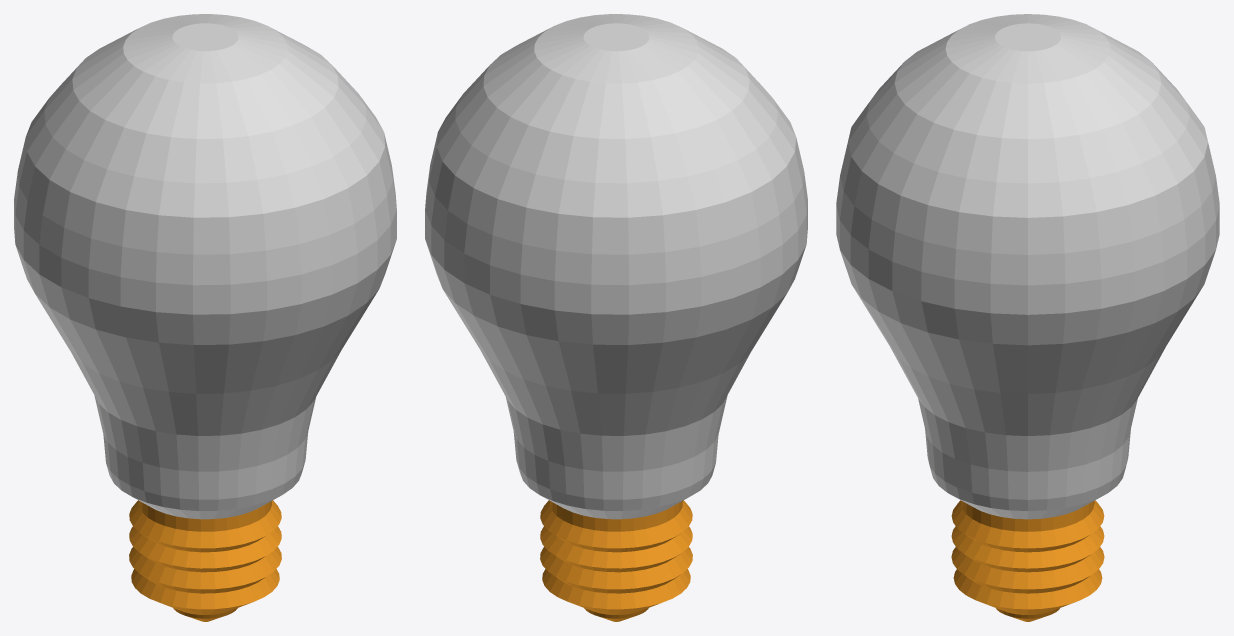
Rendered from Lightbulb.fbx.
The picture shows the model from 3 angles, left to right: view 1: azimuth 30°, elevation 25°; view 2: azimuth 150°, elevation 25°; view 3: azimuth 270°, elevation 25°; orthographic projection.
Visible parts, largest first — view 1: Circle; view 2: Circle; view 3: Circle.
Part boxes in pixels (left/top/right/bottom): Circle: left=14, top=14, right=396, bottom=621; Circle: left=425, top=14, right=807, bottom=621; Circle: left=836, top=14, right=1219, bottom=621.
Size of the model in its own units: 2.08 by 3.49 by 2.08.
